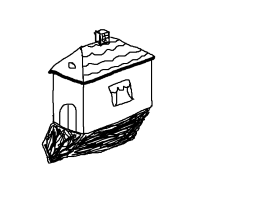chimney: (93, 24, 115, 48)
door: (54, 102, 79, 131)
open_window: (105, 80, 139, 106)
roof: (42, 39, 159, 87)
shadow: (41, 99, 165, 164)
wall: (81, 55, 160, 134)
